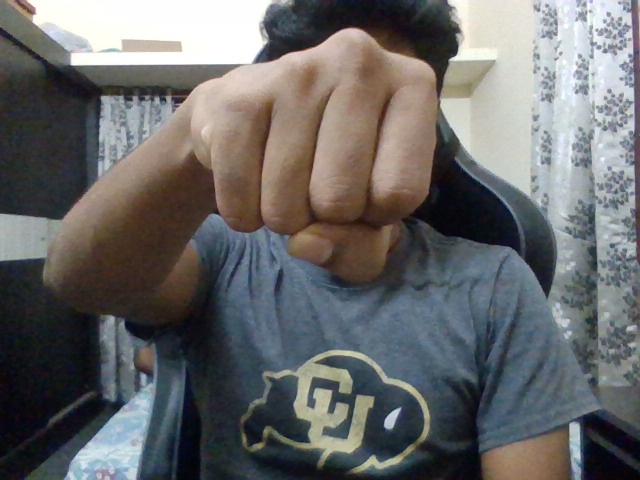yes: (161, 17, 454, 304)
